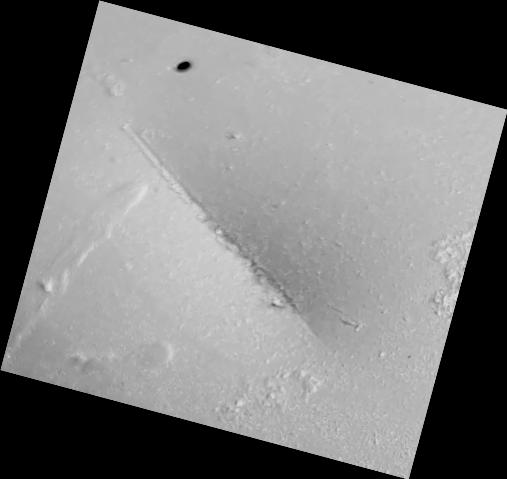dent: (0, 1, 507, 479)
